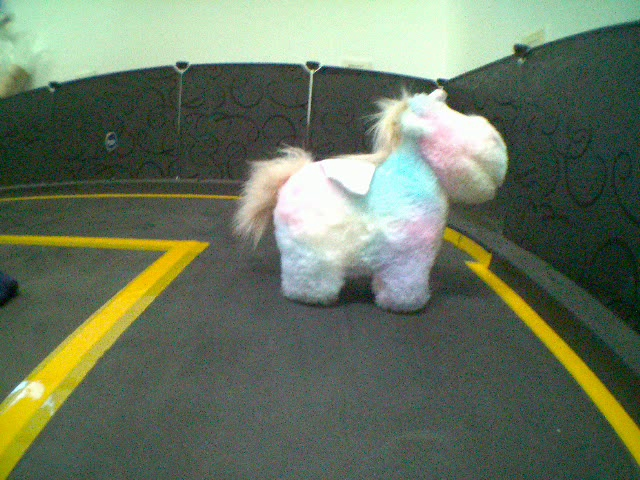unicorn: (229, 80, 511, 314)
